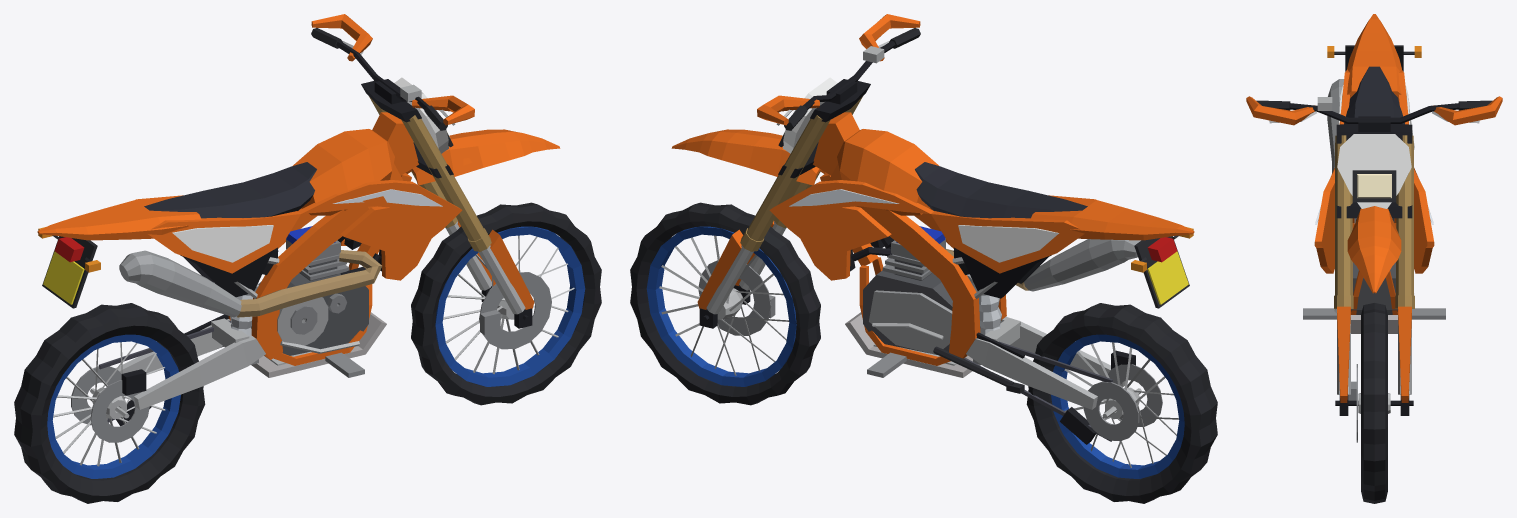
The model's file is race_bike_enduro.glb.
3 renders of one model, left to right at view 1: azimuth 30°, elevation 25°; view 2: azimuth 150°, elevation 25°; view 3: azimuth 270°, elevation 25°, orthographic. The views are drawn at different scales.
Visible parts, largest first — view 1: race_bike_enduro; view 2: race_bike_enduro; view 3: race_bike_enduro.
Boxes of the visible parts, x1,y1,x2,y2 form: race_bike_enduro: [14, 14, 601, 503]; race_bike_enduro: [630, 14, 1217, 503]; race_bike_enduro: [1246, 14, 1502, 503].
Size of the model in its own units: 2.15 by 1.3 by 0.8805.
